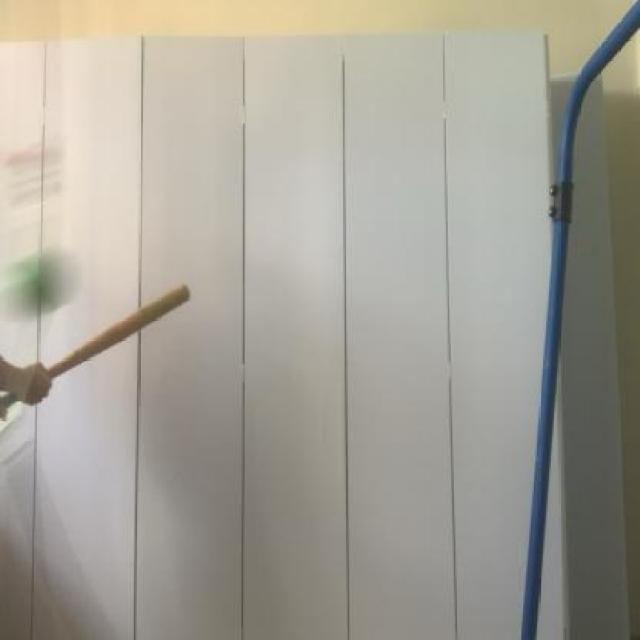baseball: (0, 248, 91, 338)
